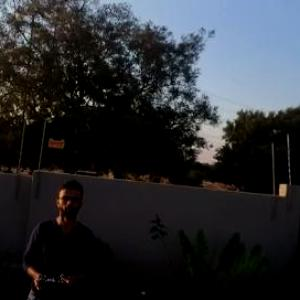follow: (13, 175, 97, 299)
